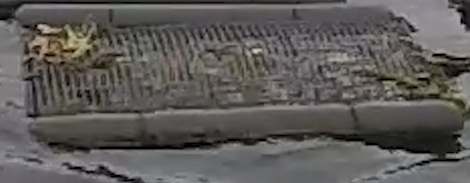bag: (12, 3, 466, 147)
